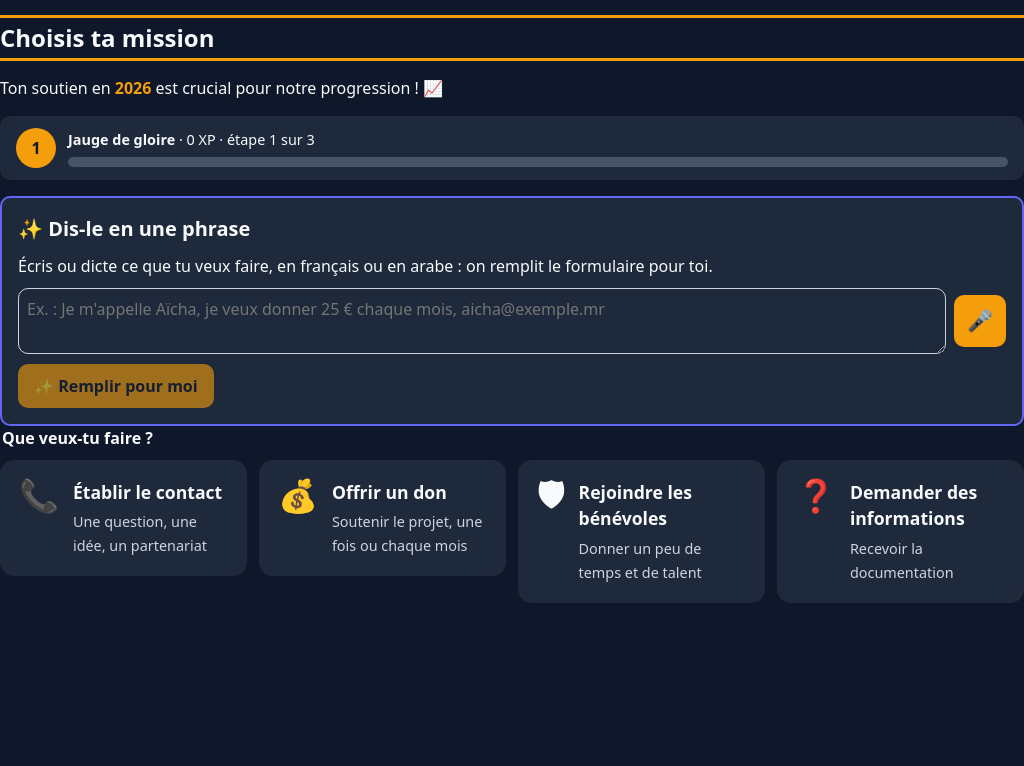
Scenario: Formulaire augmenté › « Dis-le en une phrase » remplit la mission et les champs, marqués ✨
Replace the text in the text box labelled "Écris ou dicte" with "Je m'appelle Aïcha, je veux donner 25 € chaque mois, aicha@exemple.mr" at (482, 321), box [18,288,946,354]
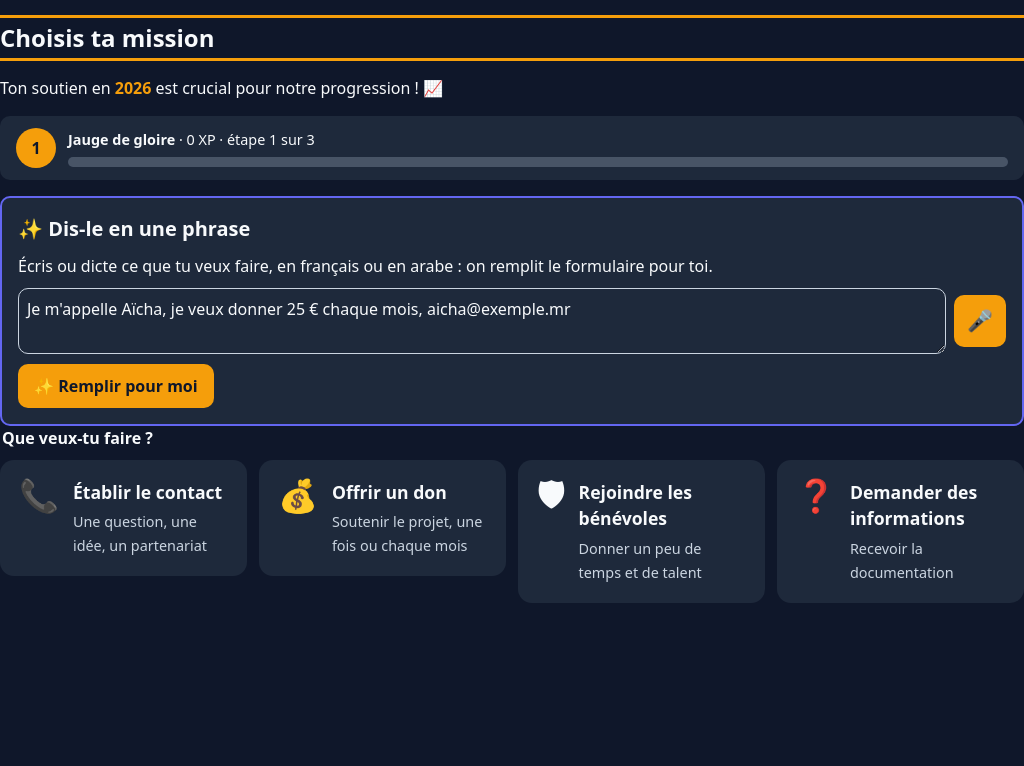
Click the button "✨ Remplir pour moi" at (116, 386), box [18,364,214,408]
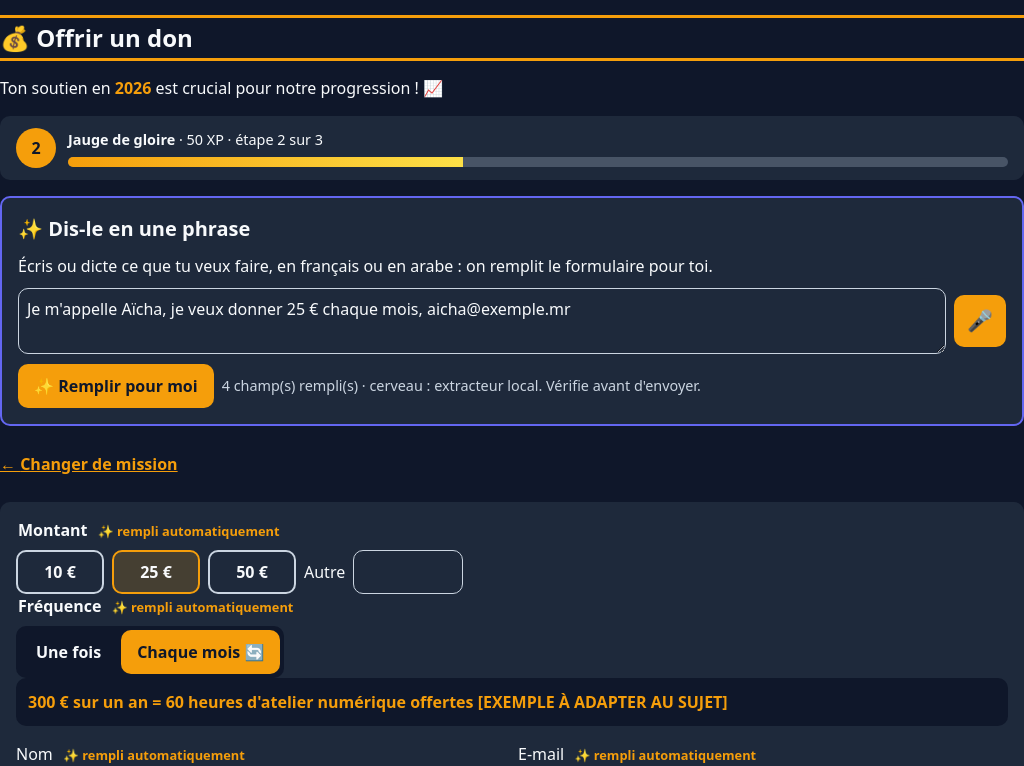
Expected: the heading "💰 Offrir un don" is shown, [0,21,193,54]
Expected: the text "extracteur local" is shown, [222,376,701,395]
Expected: the text "300 € sur un an = 60 heures" is shown, [28,691,728,713]
